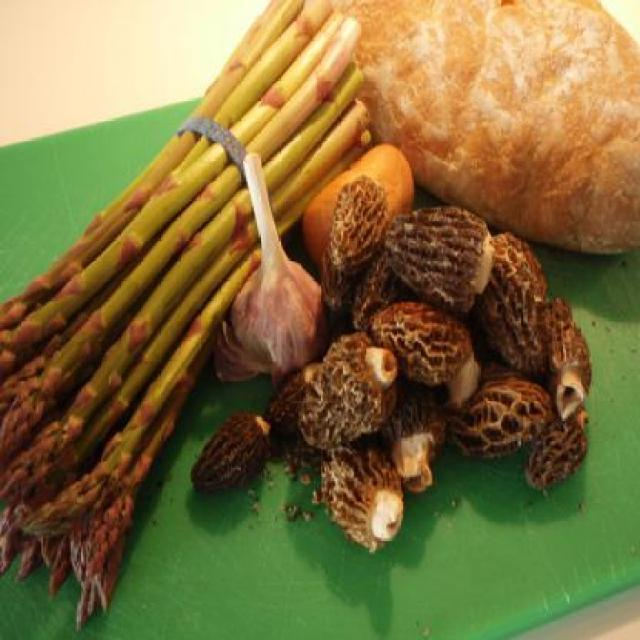Bread: (332, 0, 638, 257)
